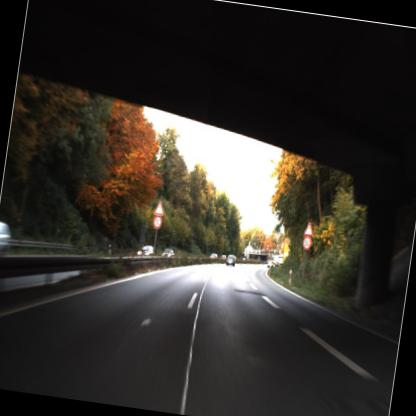danger: (152, 196, 166, 216), (301, 218, 316, 236)
prohibitory: (148, 214, 164, 233), (298, 236, 314, 254)
